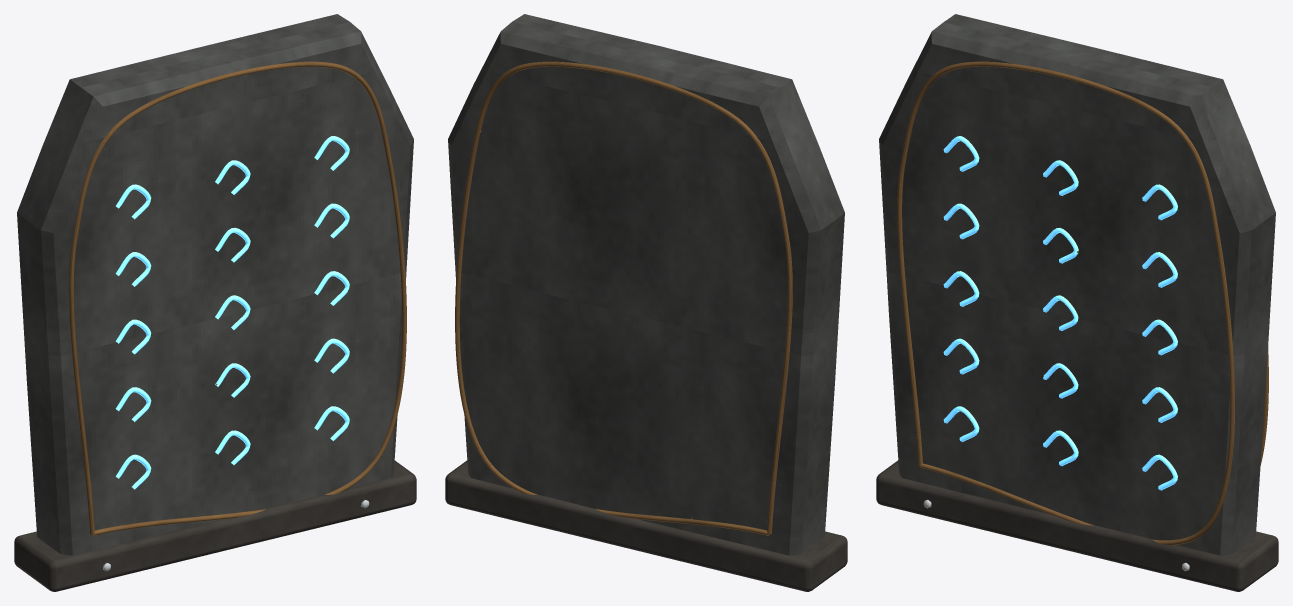
The model's file is rune-tablet.lod1.glb.
The picture shows the model from 3 angles, left to right: view 1: azimuth 30°, elevation 25°; view 2: azimuth 150°, elevation 25°; view 3: azimuth 330°, elevation 25°; orthographic projection.
Parts seen in each view (by area): view 1: stone / dressed slate, iron / hammer-scaled wrought iron, bronze / cast bronze with patina, energy / emissive field channel; view 2: stone / dressed slate, iron / hammer-scaled wrought iron, bronze / cast bronze with patina; view 3: stone / dressed slate, iron / hammer-scaled wrought iron, bronze / cast bronze with patina, energy / emissive field channel.
Part boxes in pixels (left/top/right/bottom): stone / dressed slate: left=17, top=14, right=413, bottom=555; iron / hammer-scaled wrought iron: left=14, top=460, right=416, bottom=591; bronze / cast bronze with patina: left=69, top=61, right=406, bottom=535; energy / emissive field channel: left=115, top=136, right=349, bottom=489; stone / dressed slate: left=448, top=14, right=844, bottom=555; iron / hammer-scaled wrought iron: left=445, top=460, right=847, bottom=591; bronze / cast bronze with patina: left=455, top=61, right=792, bottom=535; stone / dressed slate: left=879, top=14, right=1275, bottom=555; iron / hammer-scaled wrought iron: left=876, top=460, right=1278, bottom=591; bronze / cast bronze with patina: left=897, top=61, right=1268, bottom=545; energy / emissive field channel: left=943, top=136, right=1177, bottom=490.
Size of the model in its own units: 0.3764 by 0.4633 by 0.0735.
6 materials, 4 textured.
